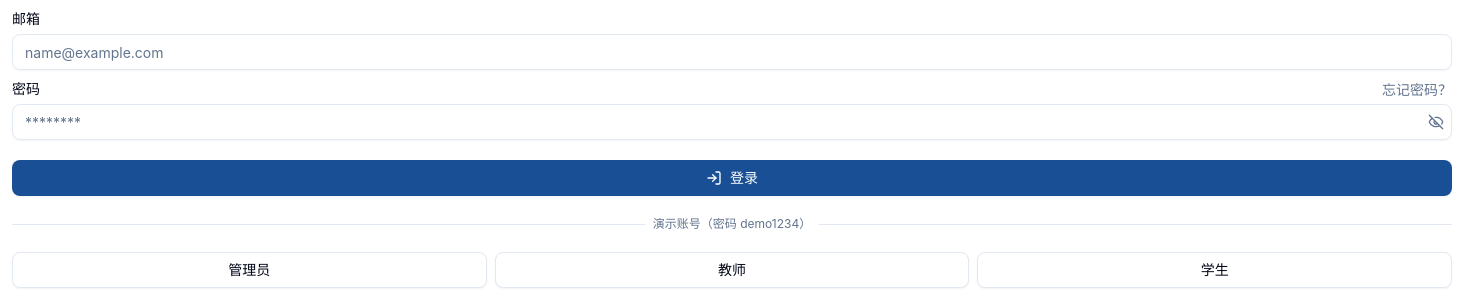
Scenario: UserAuthForm › fills the demo account when a role button is clicked
This screenshot has width=1464, height=308.
Click the button "教师": (732, 270) left=495, top=252, right=969, bottom=288
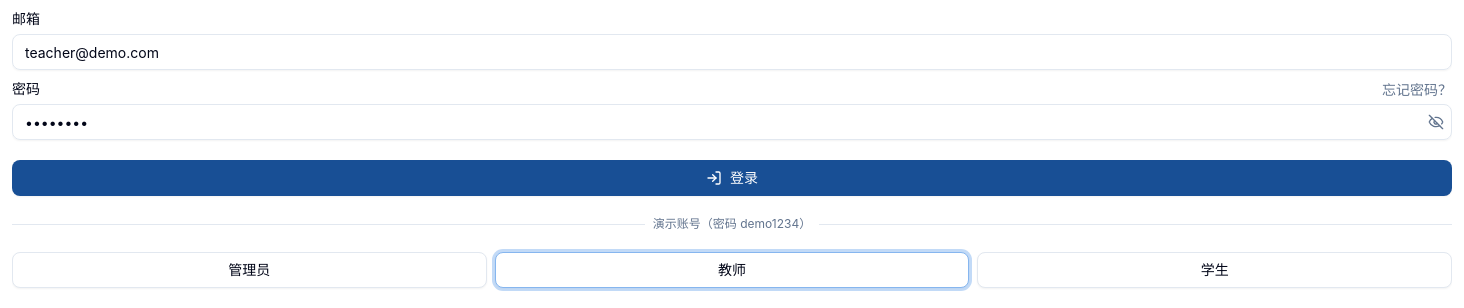
Expected: the field labelled "邮箱" holds "teacher@demo.com", left=12, top=34, right=1452, bottom=70
Expected: the password field labelled "密码" holds "demo1234", left=12, top=104, right=1452, bottom=140
